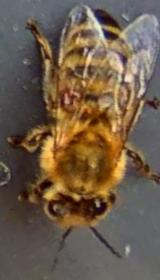varroa_mite: (54, 79, 85, 113)
